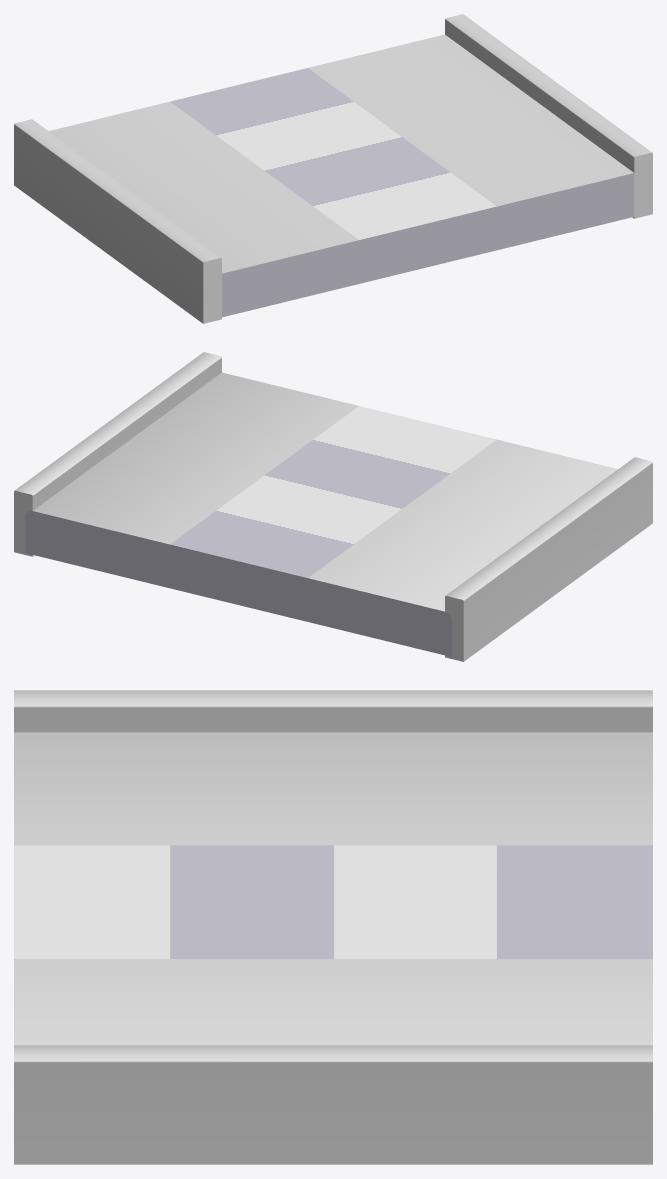
File: Main_Platform_new - Copy.fbx
3 views of the same model, one above another, from view 1: azimuth 30°, elevation 25°; view 2: azimuth 150°, elevation 25°; view 3: azimuth 270°, elevation 25° (orthographic). The views are drawn at different scales.
Visible parts, largest first — view 1: Platform_7X7; view 2: Platform_7X7; view 3: Platform_7X7.
Part boxes in pixels (<box>): Platform_7X7: <box>14,14,652,323</box>; Platform_7X7: <box>14,352,652,661</box>; Platform_7X7: <box>14,690,652,1164</box>.
Bounding box in the file's own units: 960 × 126 × 700.
Materials: 4 (1 with a texture image).
